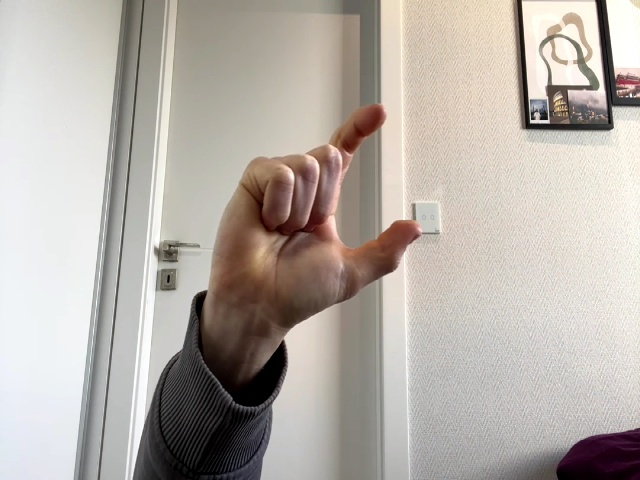C: (209, 104, 422, 327)
